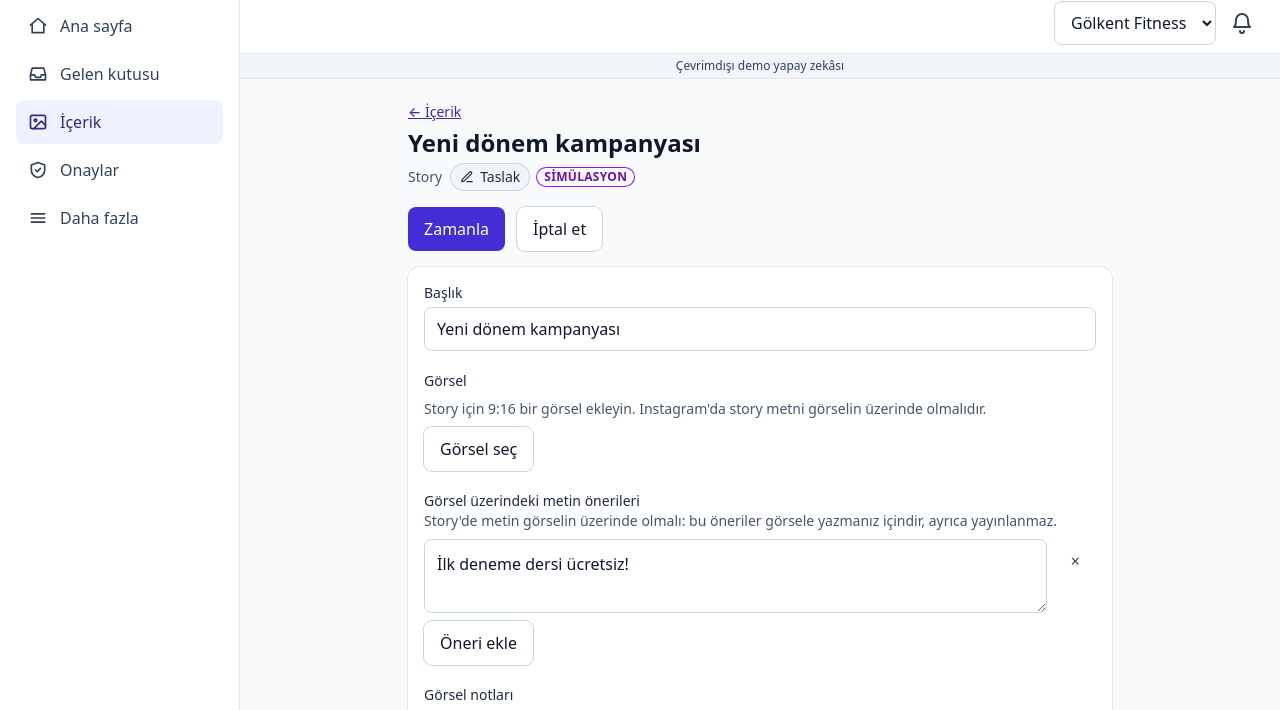
content editor: story › offers overlay suggestions and the note that the text goes on the image, but no caption
Check: the text with test id "overlay-note" shows "metin görselin üzerinde olmalı", box [424, 511, 1057, 530]
Clear the text box named "Öneri 1" at {"x": 735, "y": 576}, box [424, 539, 1047, 613]
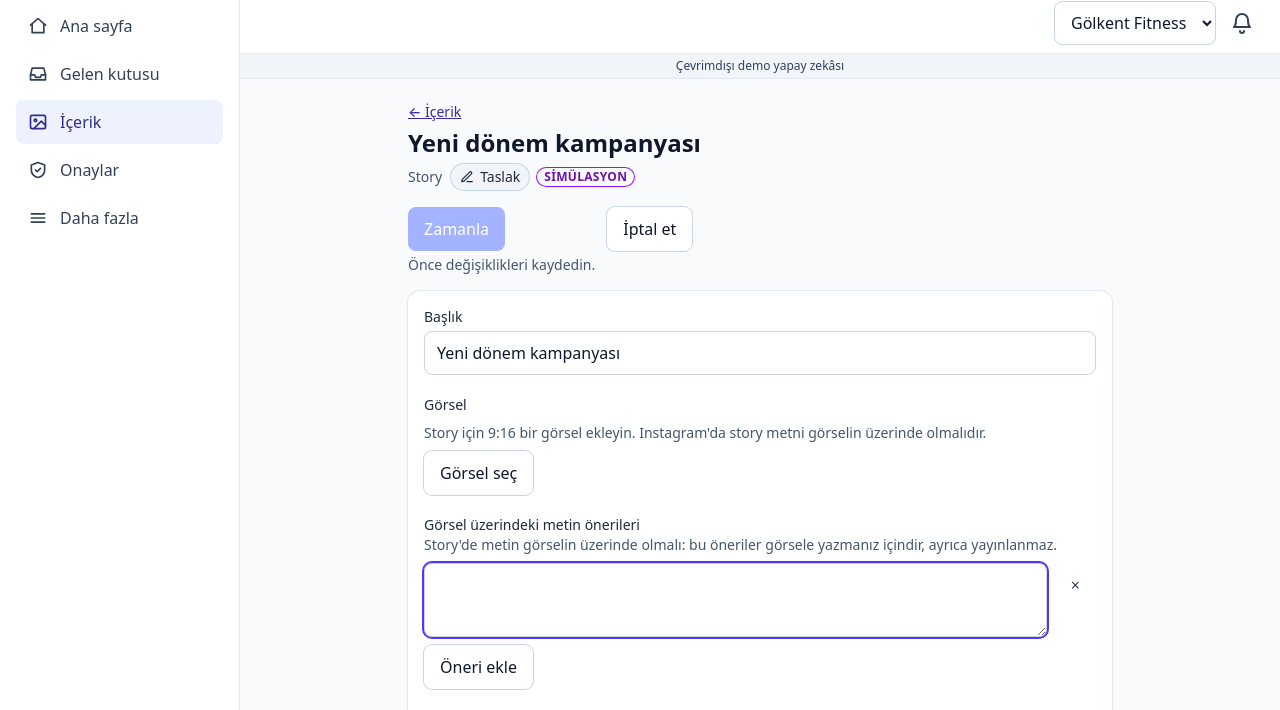
Type "İlk ders bizden!" into the text box named "Öneri 1" at {"x": 735, "y": 600}, box [424, 563, 1047, 637]
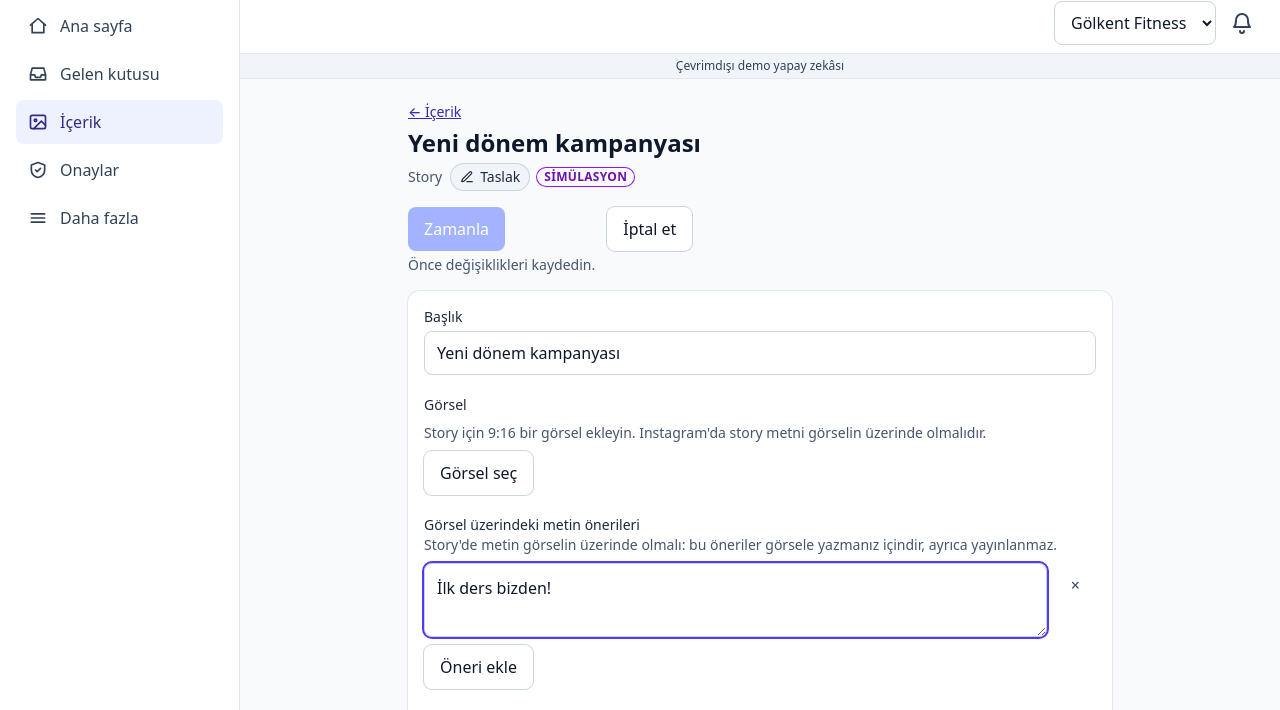
Click the button "Öneri ekle" at {"x": 478, "y": 667}, box [424, 645, 533, 689]
(page scrolled)
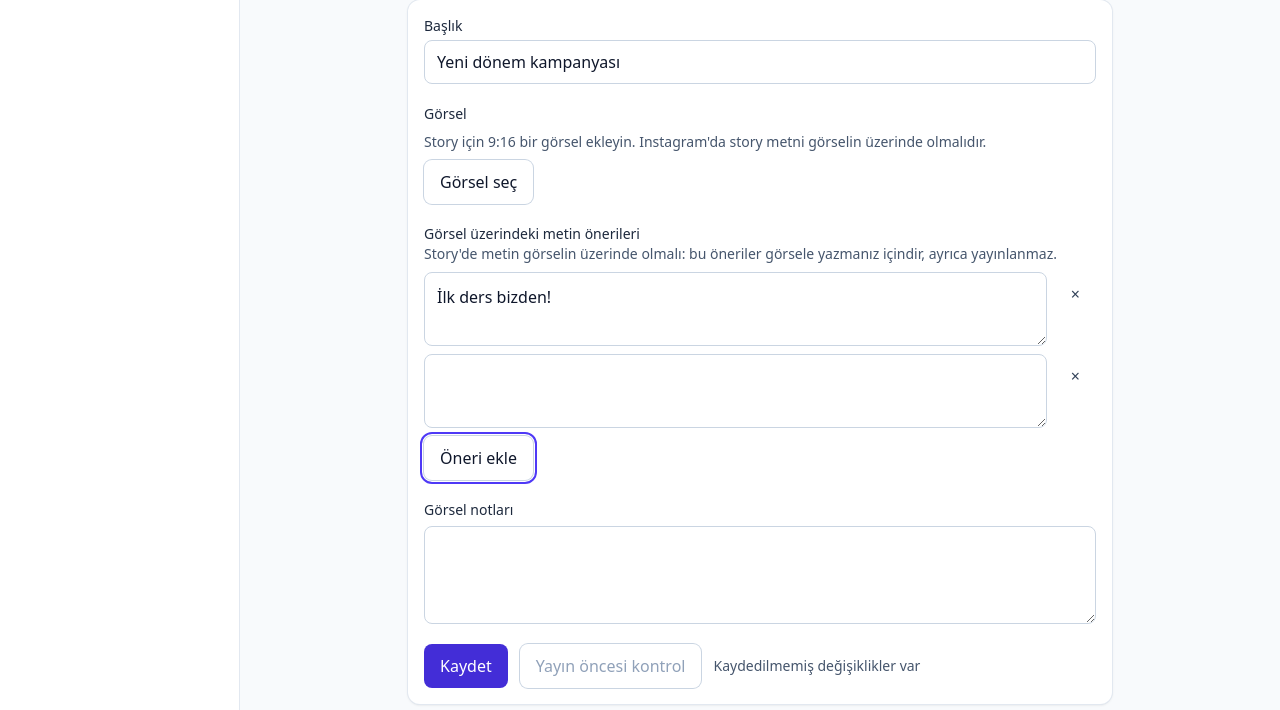
Check: the text box named "Öneri 2" is empty, box [424, 354, 1047, 428]
Click the button "Kaydet" at {"x": 466, "y": 666}, box [424, 644, 508, 688]
(page scrolled)
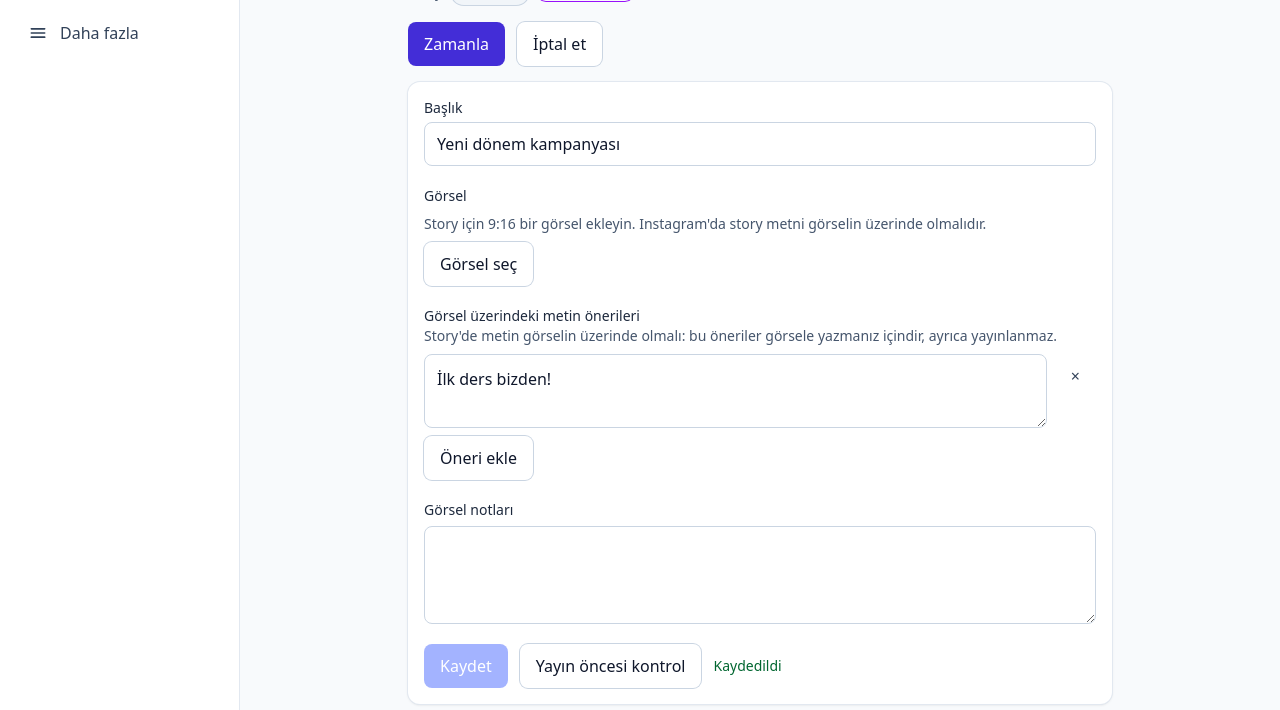
Check: the text "Kaydedildi" is shown, box [714, 656, 782, 676]
